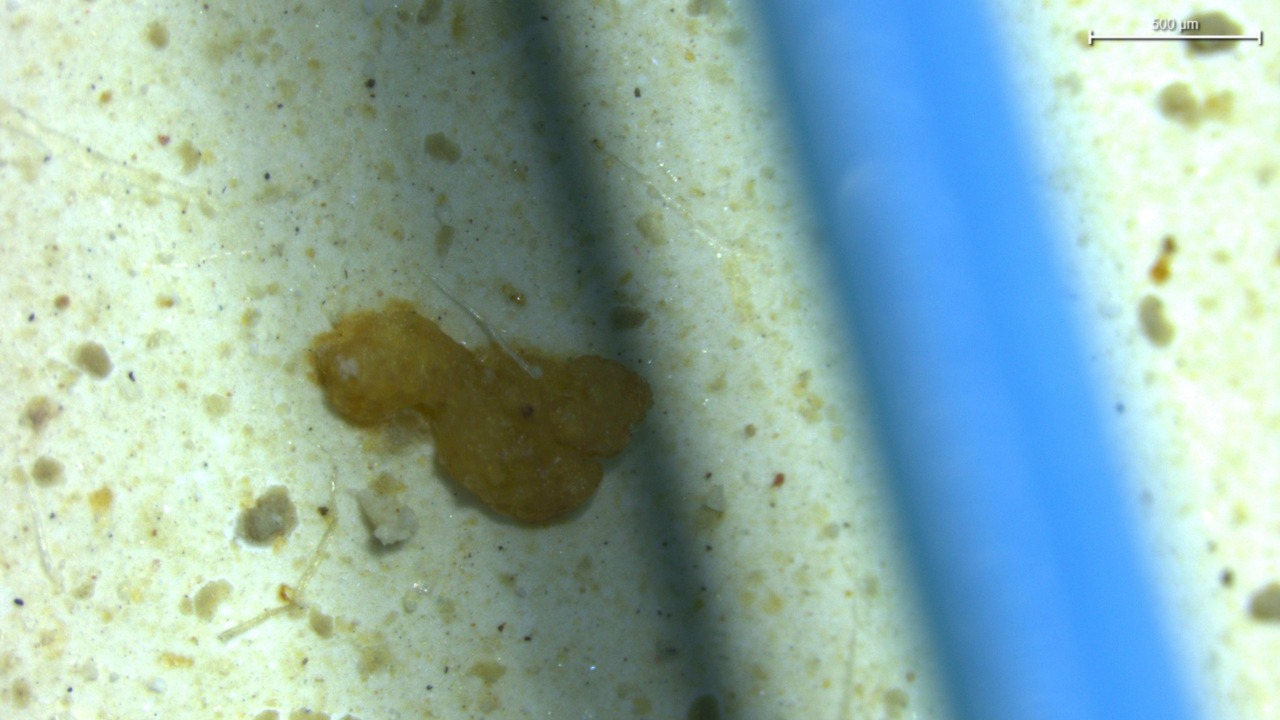microplastic_fragment: (310, 302, 652, 524), (356, 489, 418, 547)
